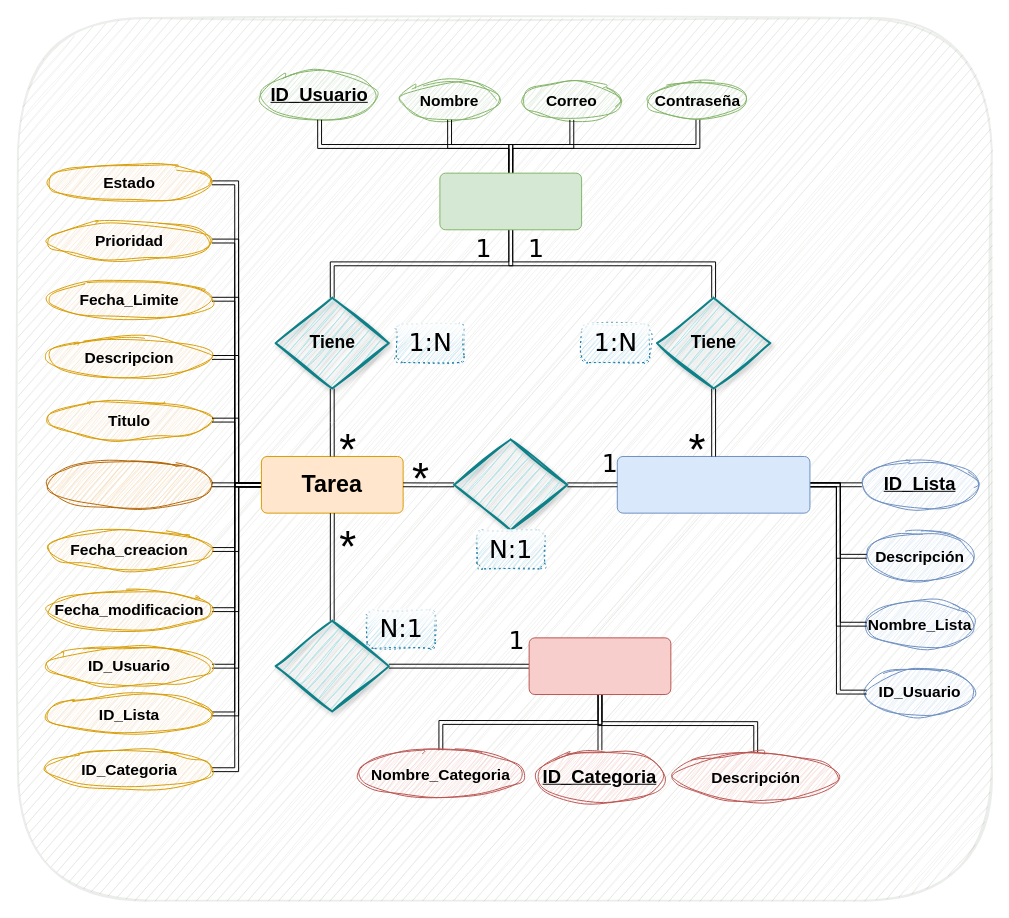
The diagram is 1009 pixels wide and 918 high, and some of its shapes have lost their labels. Each missing label, with the centre of its shape:
"Asignada" goes at point (332, 667).
"Categoria" goes at point (599, 666).
"ID_Tarea" goes at point (129, 484).
"Lista_de_Tareas" goes at point (713, 484).
"Pertenece" goes at point (511, 485).
"Usuario" goes at point (510, 201).
